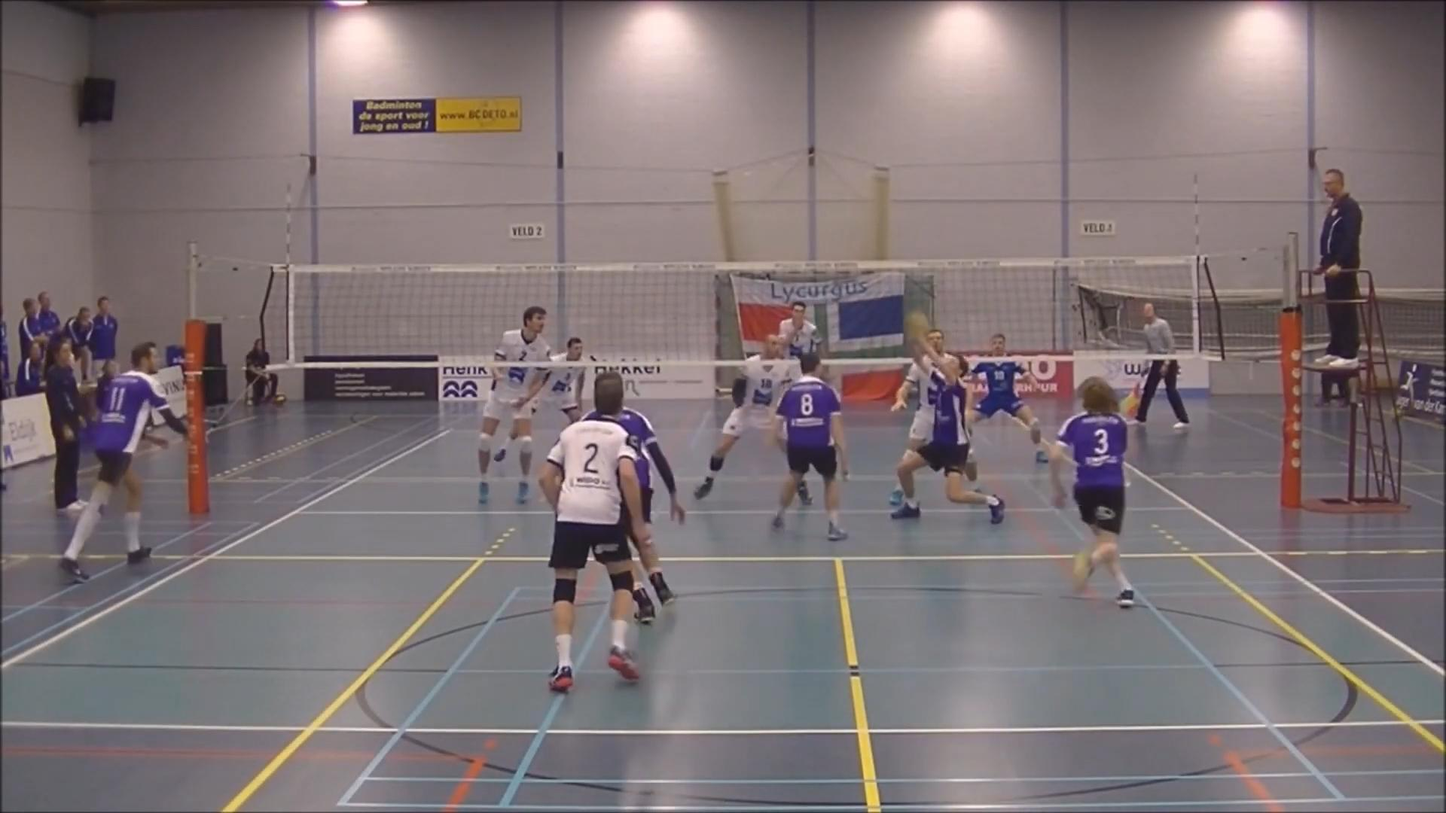Player: (538, 373, 650, 692), (59, 342, 187, 581), (1050, 377, 1133, 607), (694, 334, 794, 499), (770, 353, 847, 540), (478, 306, 549, 503), (582, 406, 685, 526), (972, 333, 1048, 463), (533, 337, 587, 423), (891, 364, 938, 450), (778, 301, 820, 358)
Set: (893, 328, 1012, 527)
ball: (902, 310, 926, 344)
